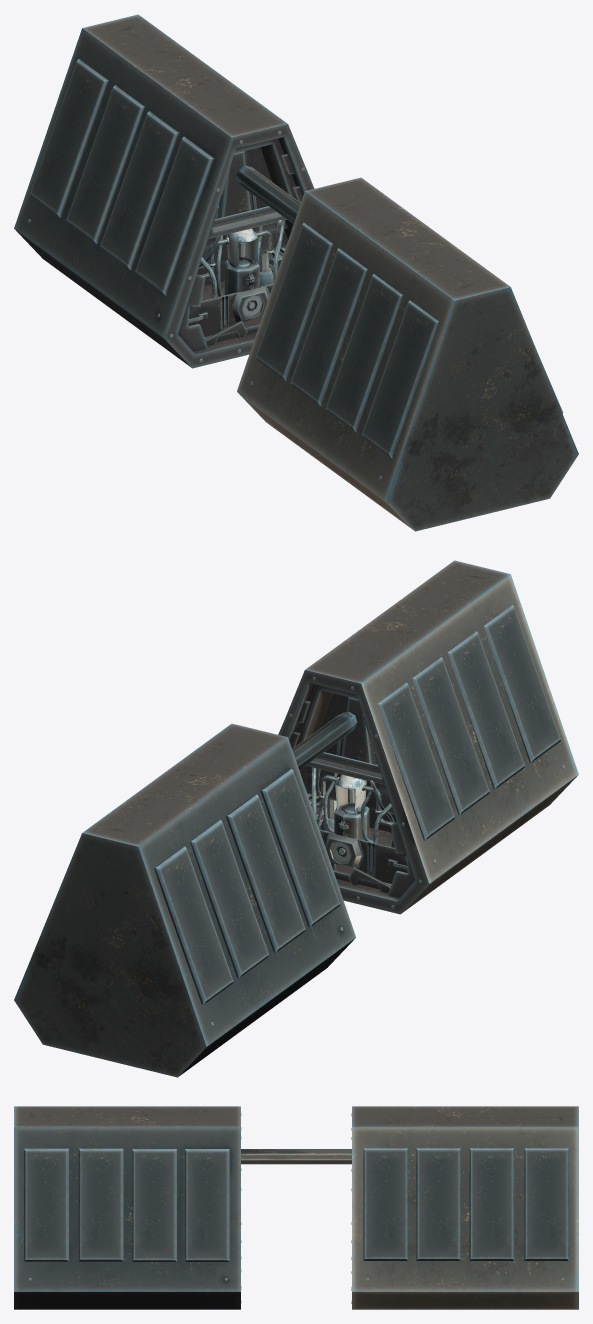
Rendered from Engine_AAndino.fbx.
3 views of the same model, one above another, from view 1: azimuth 30°, elevation 25°; view 2: azimuth 150°, elevation 25°; view 3: azimuth 270°, elevation 25° (orthographic). The views are drawn at different scales.
Parts seen in each view (by area): view 1: polySurface29, polySurface40, polySurface39; view 2: polySurface40, polySurface29, polySurface39; view 3: polySurface29, polySurface40, polySurface39.
Part boxes in pixels (bbox=[...]): polySurface29: bbox=[237, 177, 578, 531]; polySurface40: bbox=[14, 14, 314, 368]; polySurface39: bbox=[235, 165, 300, 223]; polySurface40: bbox=[14, 723, 355, 1077]; polySurface29: bbox=[278, 560, 578, 914]; polySurface39: bbox=[292, 712, 357, 769]; polySurface29: bbox=[14, 1106, 241, 1309]; polySurface40: bbox=[351, 1106, 578, 1309]; polySurface39: bbox=[241, 1149, 351, 1164].
Size of the model in its own units: 14.6 by 16.03 by 48.91.
